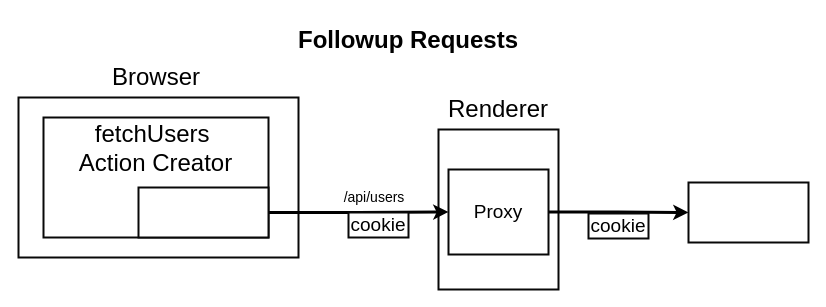
The diagram is 826 pixels wide and 307 high, and some of its shapes have lost their labels. Here are the shapes that lost their labels. From the top down, the centre of each, then its label:
At (x=203, y=212): "axios".
At (x=748, y=212): "API".
